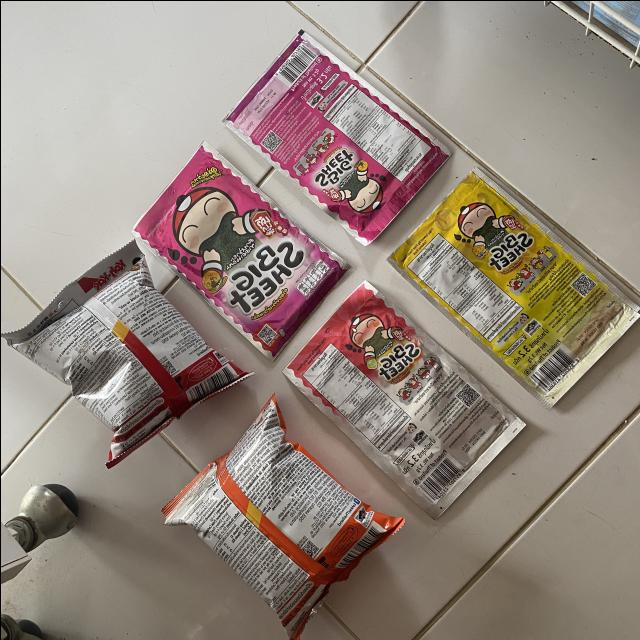plastik: (388, 167, 640, 407), (161, 395, 404, 640), (282, 280, 523, 517), (0, 240, 251, 466), (222, 30, 450, 244), (132, 142, 349, 358)
